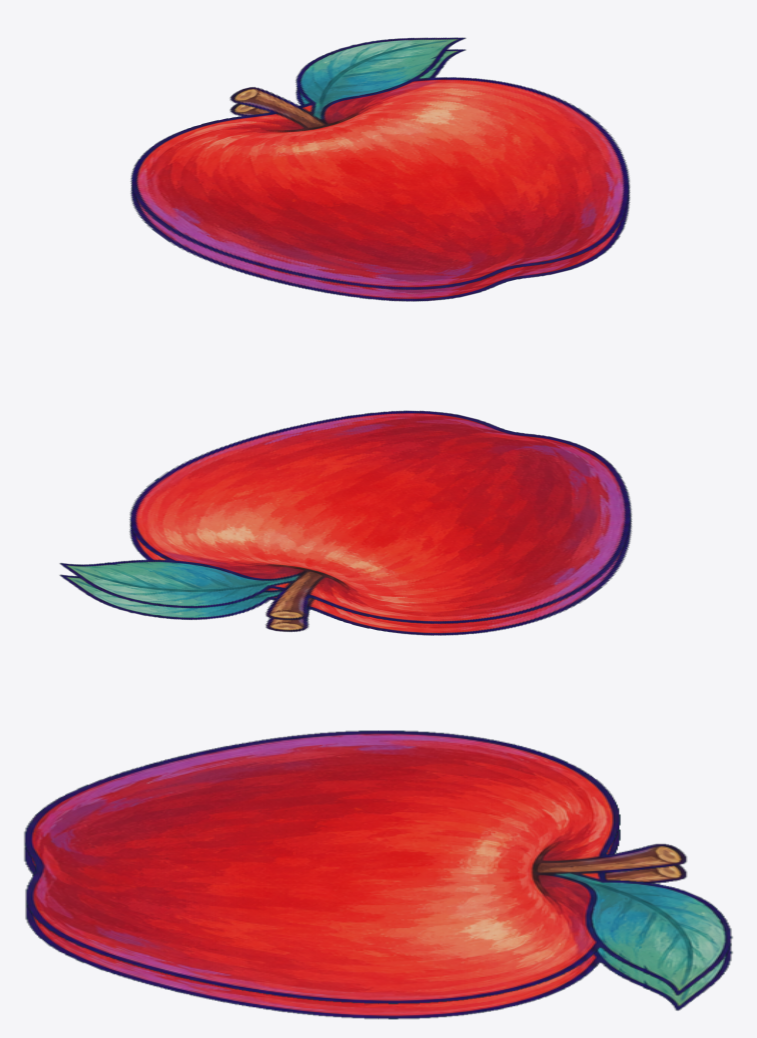
Rendered from fruit_apple.glb.
3 renders of one model, top to bottom at view 1: azimuth 30°, elevation 25°; view 2: azimuth 150°, elevation 25°; view 3: azimuth 270°, elevation 25°, orthographic. The views are drawn at different scales.
Parts seen in each view (by area): view 1: fruit_apple; view 2: fruit_apple; view 3: fruit_apple.
Boxes of the visible parts, box(x1,y1,x2,y2) form: fruit_apple: box(130, 37, 630, 301); fruit_apple: box(59, 410, 631, 635); fruit_apple: box(24, 730, 732, 1019).
Bounding box in the file's own units: 2 × 0.05 × 2.18.
1 material, 1 textured.
